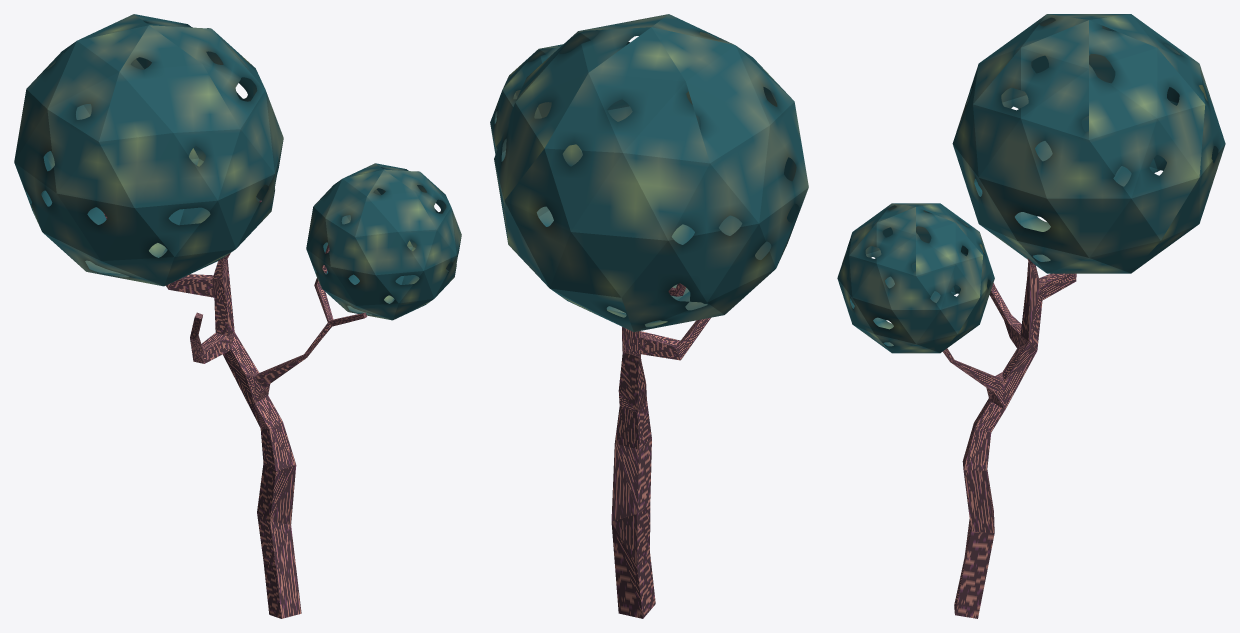
File: Tree_Test2.obj
3 renders of one model, left to right at view 1: azimuth 30°, elevation 25°; view 2: azimuth 150°, elevation 25°; view 3: azimuth 270°, elevation 25°, orthographic. The views are drawn at different scales.
Parts seen in each view (by area): view 1: Cube_Cube.001; view 2: Cube_Cube.001; view 3: Cube_Cube.001.
Part boxes in pixels (x1,y1,x2,y2): Cube_Cube.001: (14, 14, 461, 618); Cube_Cube.001: (490, 14, 808, 618); Cube_Cube.001: (837, 14, 1225, 618).
Size of the model in its own units: 14.55 by 23.99 by 15.12.
